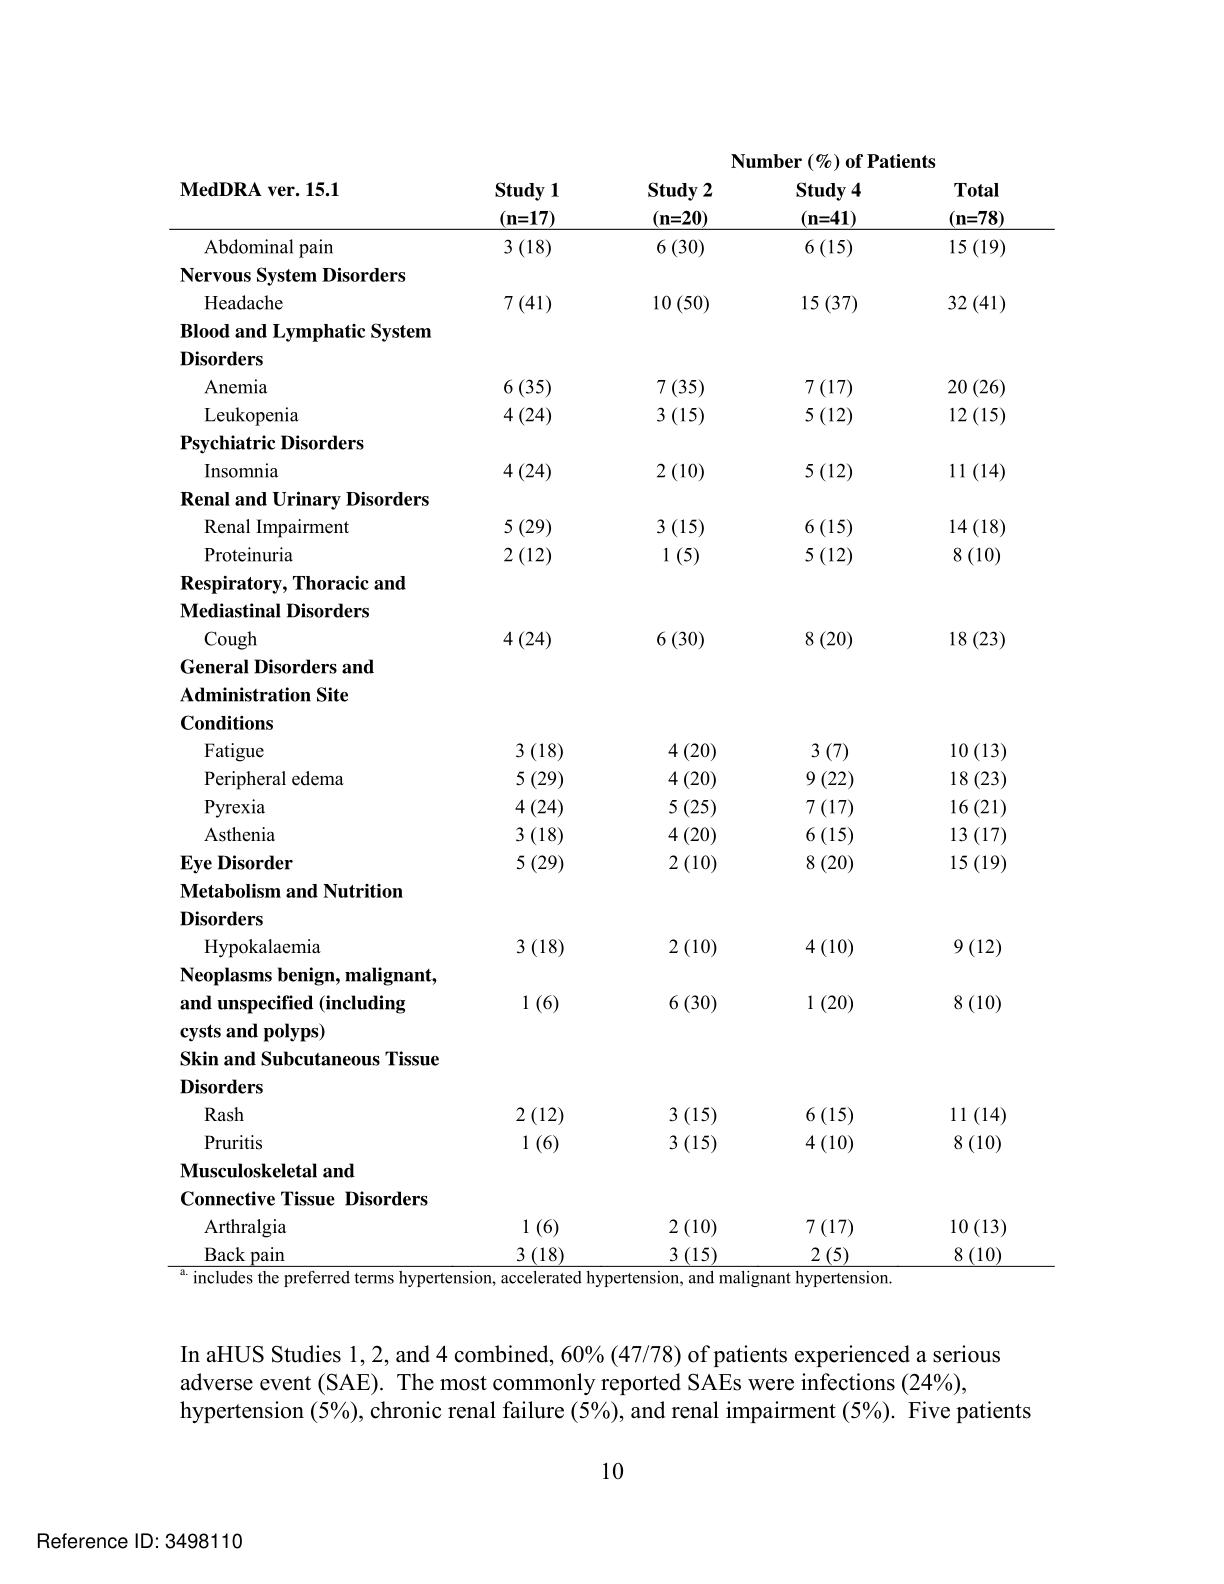partial_lined_merged_cells: (167, 141, 1056, 1270)
